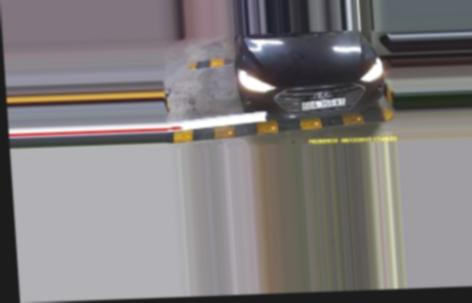License_Plate: (300, 97, 346, 111)
